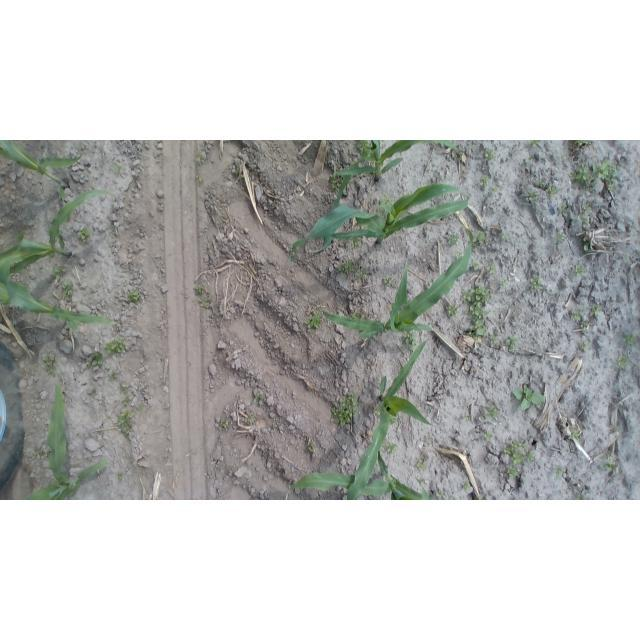Maize: (316, 246, 472, 344), (290, 183, 475, 257), (347, 337, 431, 494), (0, 189, 110, 282), (329, 141, 464, 206), (35, 383, 104, 500), (0, 272, 120, 329), (290, 453, 433, 499), (1, 141, 84, 196)
Weeds: (463, 286, 490, 339), (331, 394, 357, 428), (513, 384, 546, 410), (502, 440, 534, 466), (594, 159, 618, 191), (570, 164, 592, 187), (117, 411, 133, 438), (104, 337, 126, 355), (304, 312, 322, 331), (42, 356, 56, 375), (87, 352, 104, 367), (77, 226, 91, 244), (483, 403, 499, 418), (403, 332, 417, 349), (606, 455, 620, 471), (339, 260, 355, 273), (63, 281, 73, 301), (567, 428, 581, 442), (505, 335, 519, 349), (473, 230, 486, 245), (127, 290, 142, 303), (530, 275, 543, 289), (624, 333, 637, 347), (52, 266, 66, 279), (591, 303, 604, 317), (506, 466, 519, 479), (572, 264, 585, 277), (253, 391, 264, 406), (199, 296, 212, 308), (446, 304, 459, 316), (447, 234, 459, 247), (357, 141, 371, 152), (617, 354, 628, 368), (583, 235, 592, 252), (555, 230, 566, 243), (330, 175, 341, 188), (109, 369, 120, 381), (387, 442, 398, 454), (415, 459, 427, 470), (483, 149, 495, 160), (559, 202, 569, 215), (579, 216, 590, 227), (571, 310, 582, 321), (461, 480, 472, 491), (479, 175, 489, 187), (348, 238, 361, 247), (306, 439, 314, 453), (195, 284, 206, 294), (113, 163, 123, 174), (381, 195, 392, 205), (554, 466, 565, 476), (488, 265, 498, 276), (385, 275, 394, 287), (579, 320, 589, 330), (351, 310, 361, 320), (529, 191, 538, 201), (489, 335, 498, 345), (549, 186, 558, 196), (574, 140, 589, 146), (579, 342, 589, 351), (483, 432, 493, 441), (435, 490, 445, 499), (119, 383, 127, 394), (528, 141, 540, 148), (499, 278, 508, 287), (461, 414, 471, 422), (89, 387, 97, 397), (245, 415, 253, 424), (490, 186, 498, 195), (219, 419, 228, 427), (122, 398, 130, 407), (196, 155, 205, 163), (135, 405, 145, 412), (374, 405, 381, 415), (360, 268, 367, 278), (473, 260, 480, 270), (117, 472, 124, 482), (197, 175, 204, 184), (577, 493, 587, 499), (390, 417, 398, 424), (584, 204, 592, 211), (501, 233, 508, 241), (526, 157, 533, 164), (270, 421, 278, 427)
